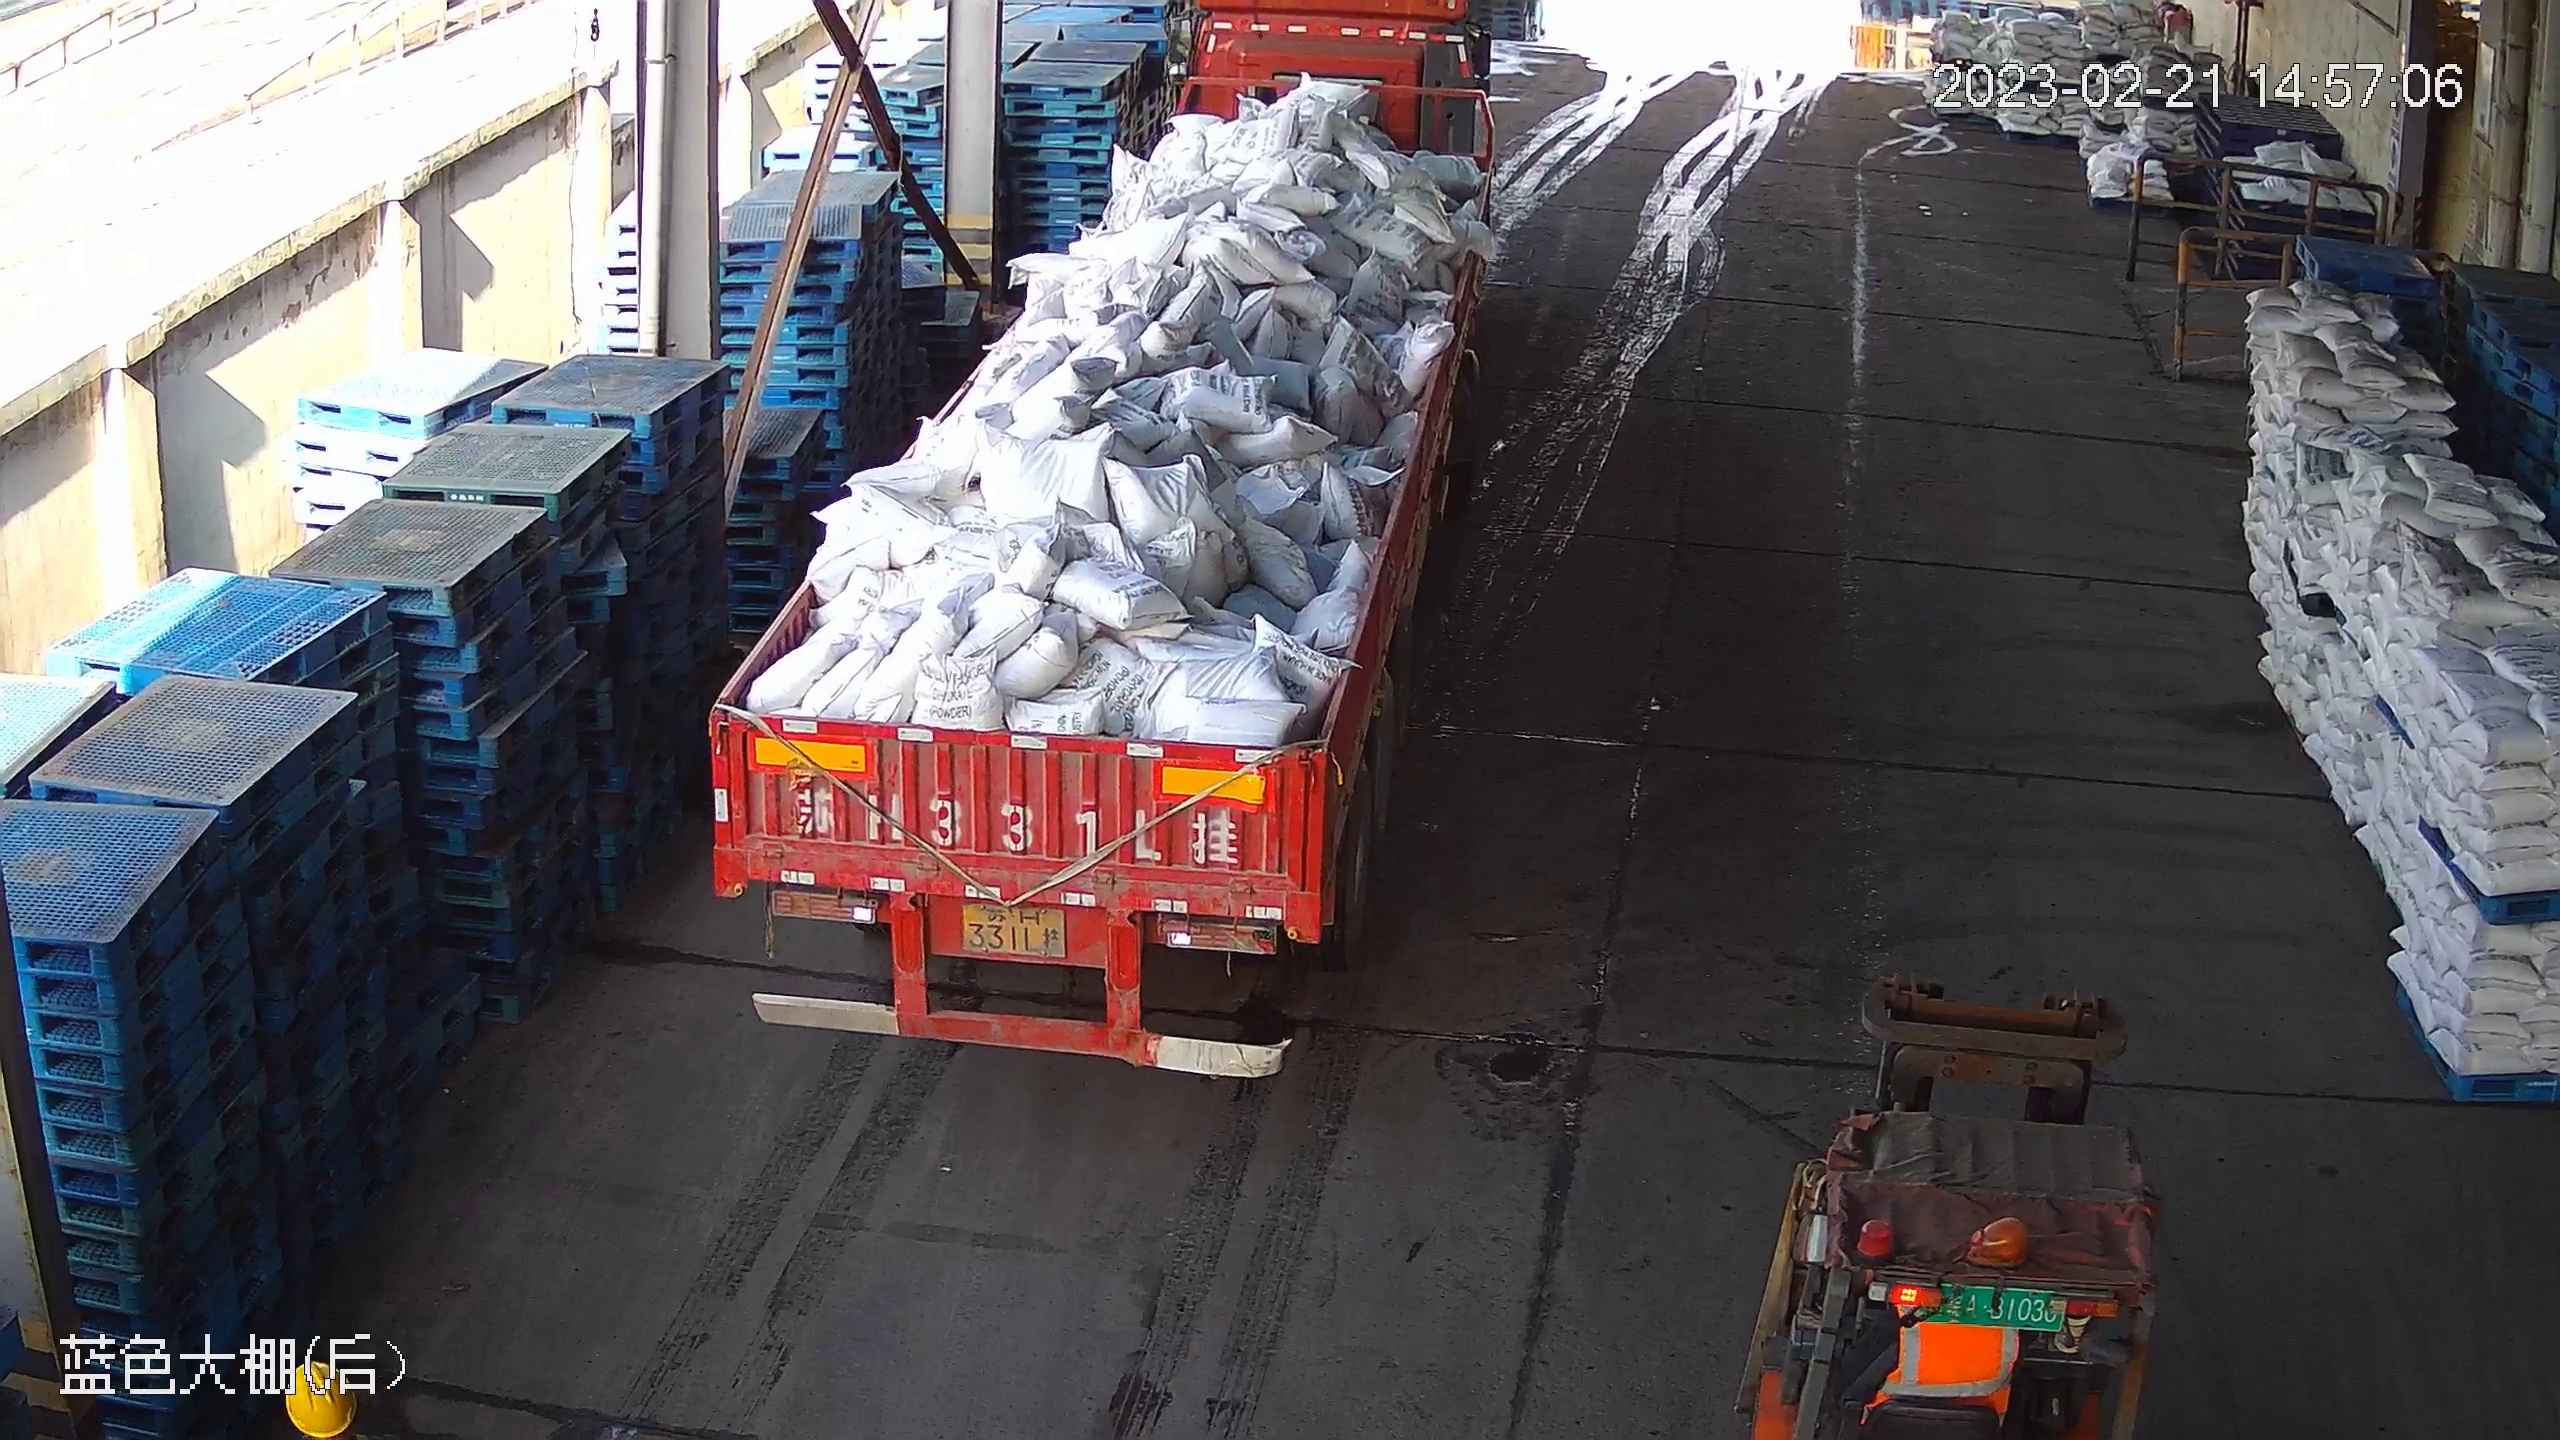helmet: (280, 1354, 357, 1440)
truck: (696, 4, 1505, 1078)
